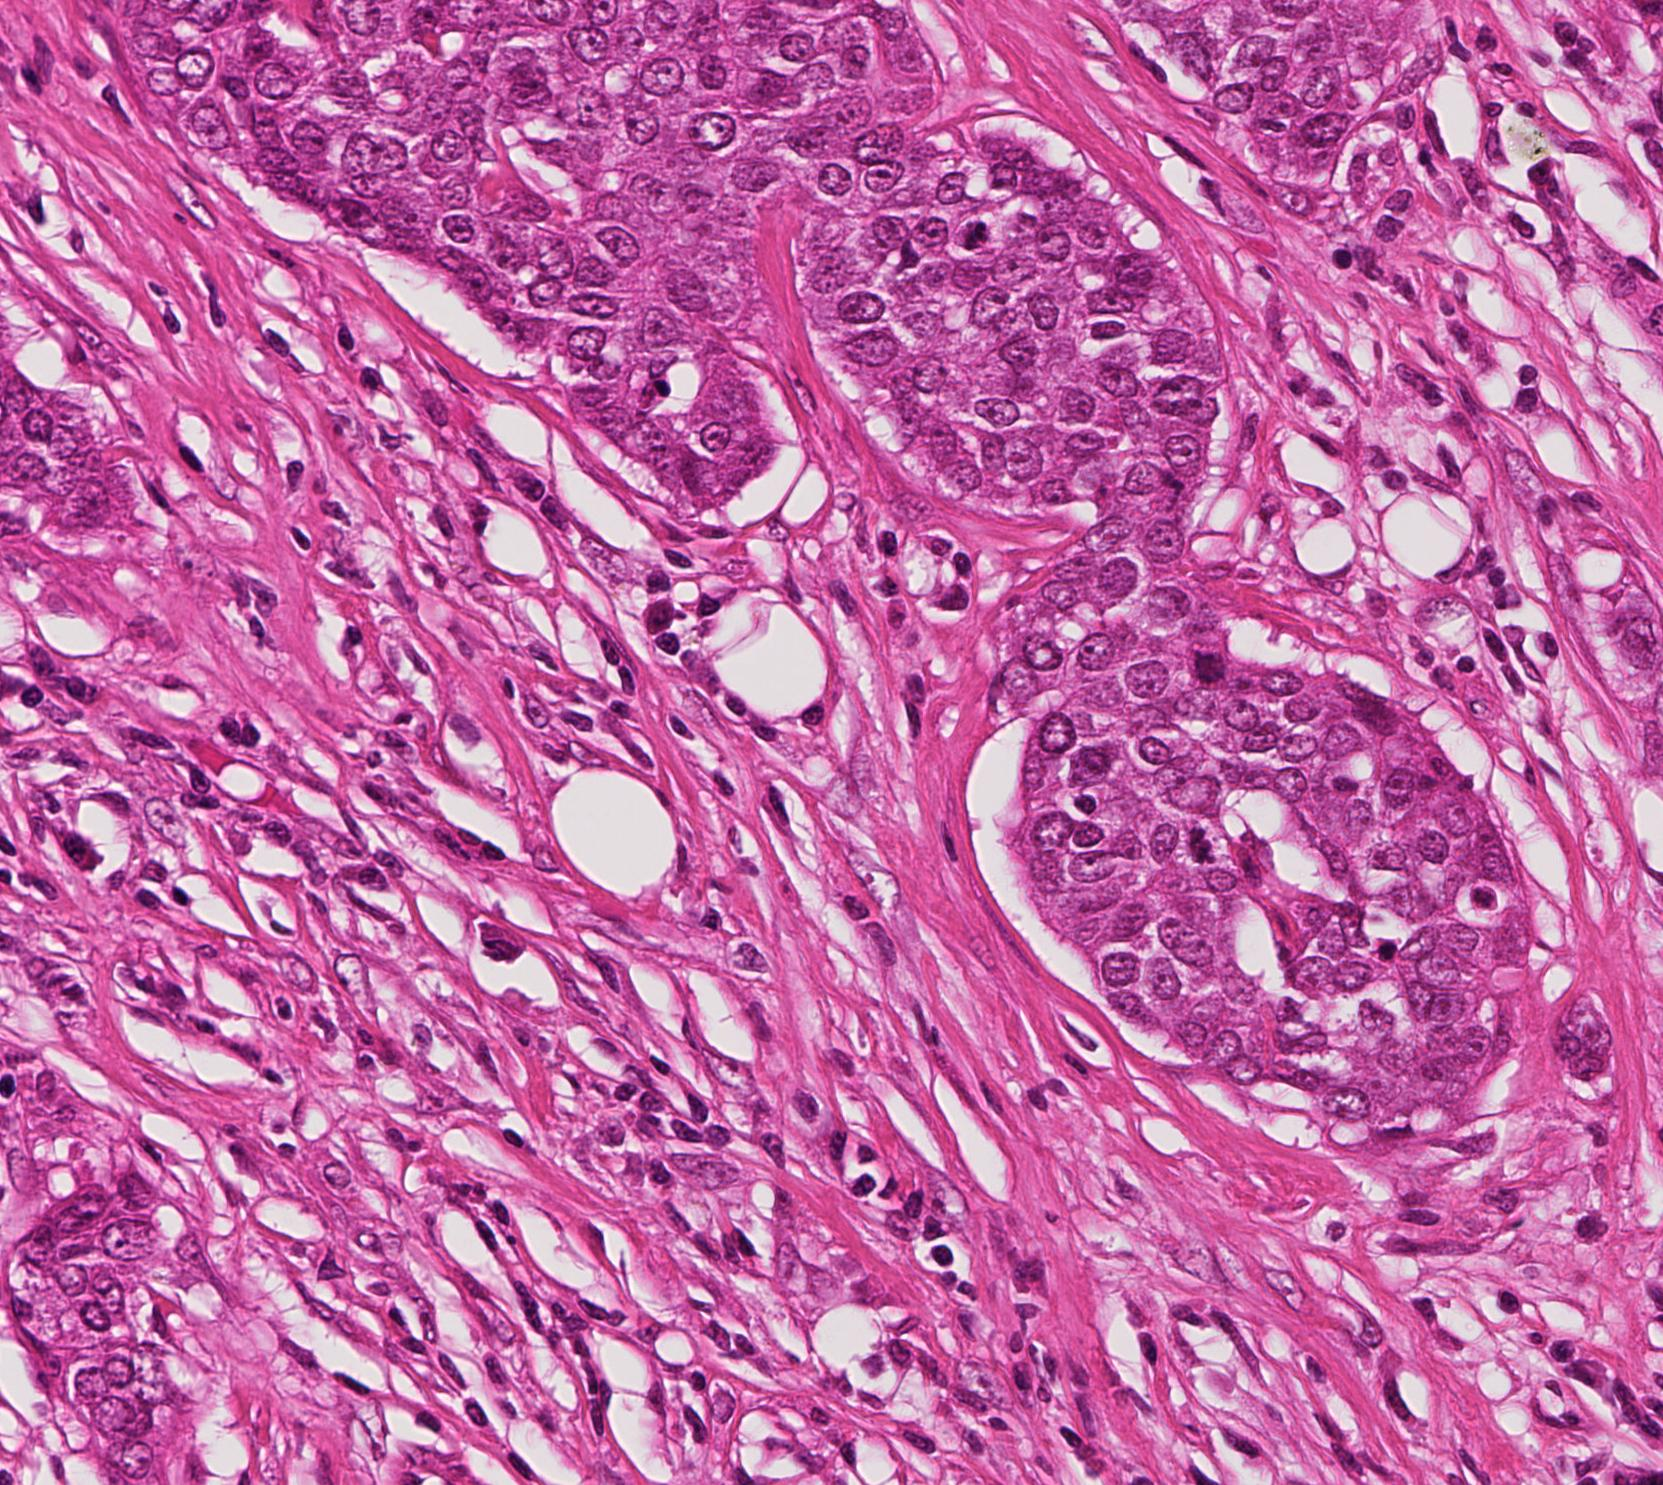mitosis: (1170, 807, 1230, 867), (1173, 628, 1231, 688)
